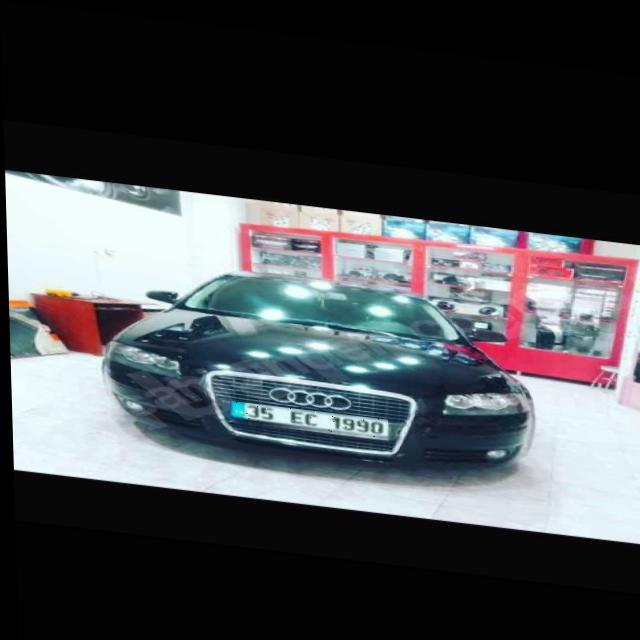license_plate: (228, 396, 386, 431)
